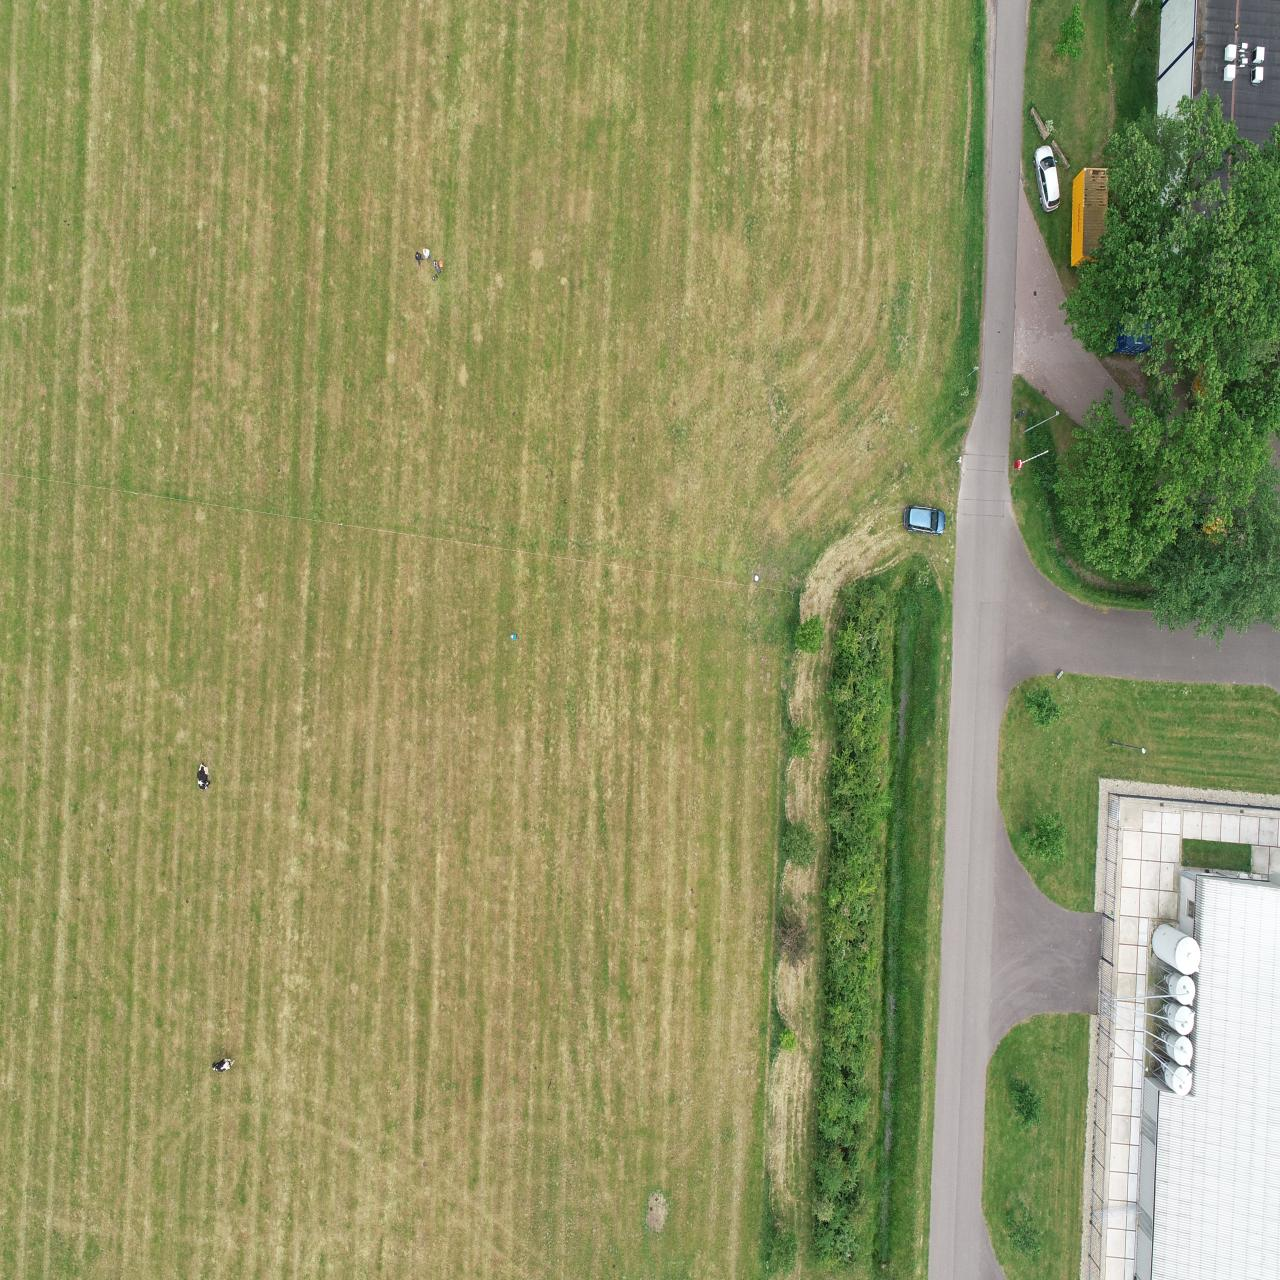cow: (196, 761, 211, 791), (211, 1055, 237, 1071)
